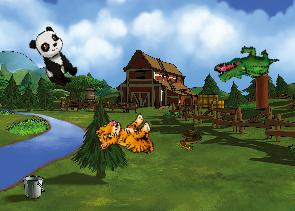crocodile: (211, 33, 280, 97)
panda: (25, 24, 84, 91)
tiger: (93, 107, 159, 168)
